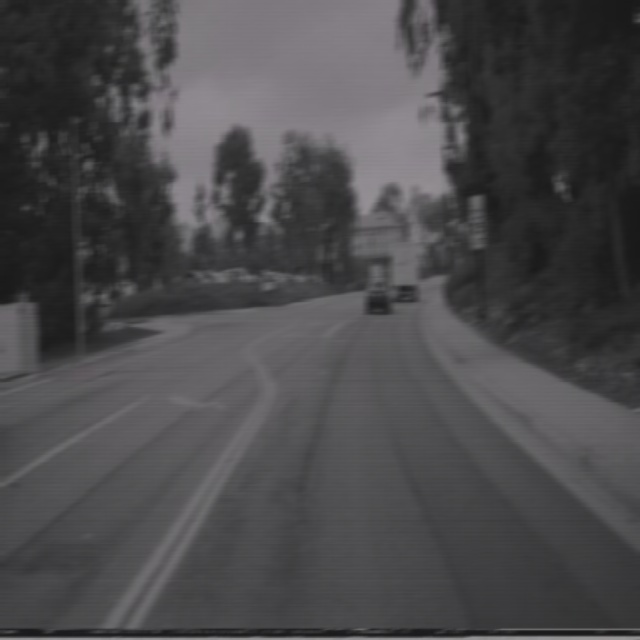schoolSpeedLimit25: (468, 192, 485, 248)
